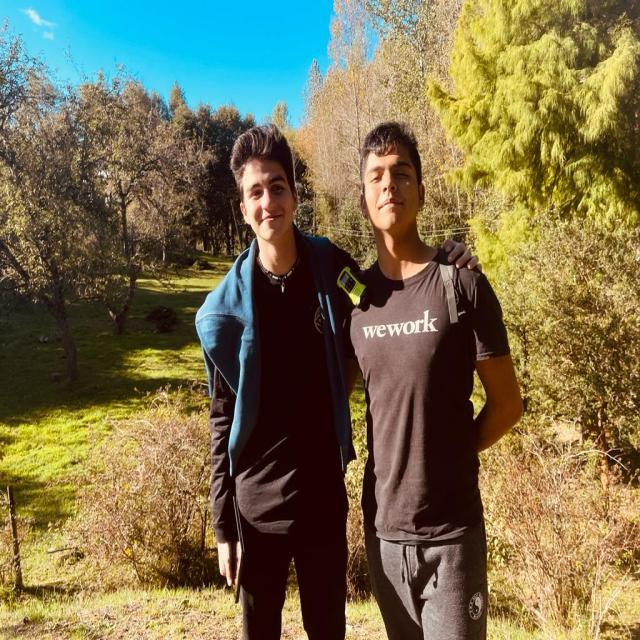person: (323, 105, 520, 640), (168, 120, 356, 640)
